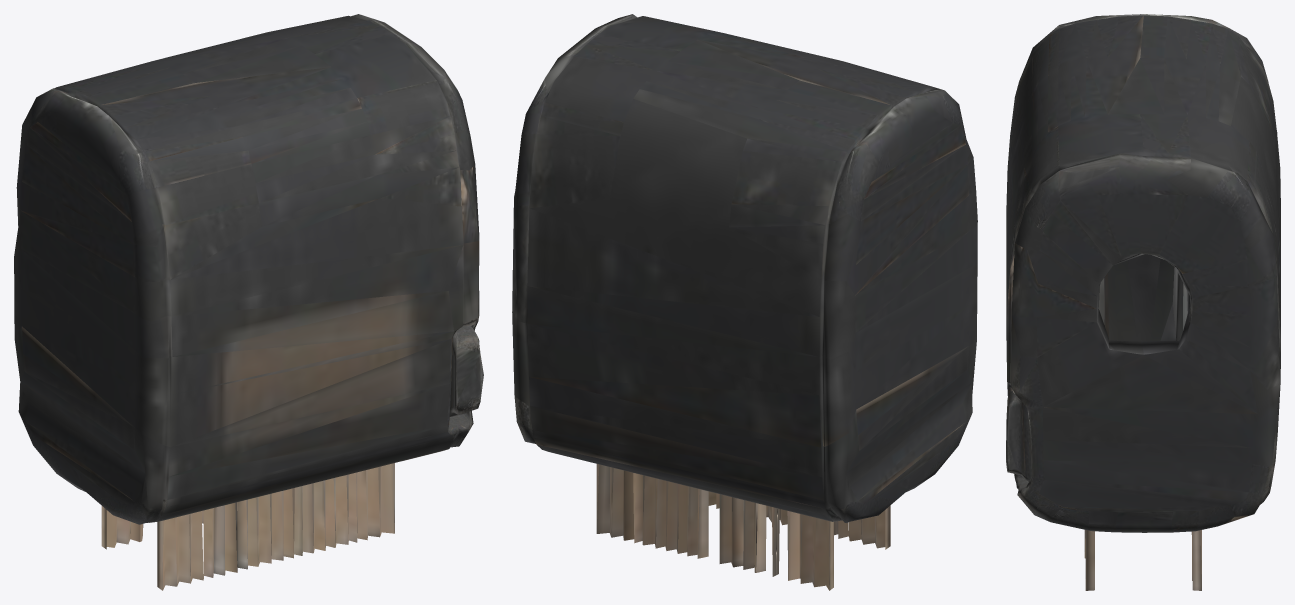
The model's file is p7-paper-towel-dispenser-t25.glb.
3 renders of one model, left to right at view 1: azimuth 30°, elevation 25°; view 2: azimuth 150°, elevation 25°; view 3: azimuth 270°, elevation 25°, orthographic. The views are drawn at different scales.
Parts seen in each view (by area): view 1: p7-paper-towel-dispenser-t25; view 2: p7-paper-towel-dispenser-t25; view 3: p7-paper-towel-dispenser-t25.
Boxes of the visible parts, x1=… form: p7-paper-towel-dispenser-t25: x1=14, y1=14, x2=483, y2=590; p7-paper-towel-dispenser-t25: x1=512, y1=14, x2=977, y2=590; p7-paper-towel-dispenser-t25: x1=1006, y1=14, x2=1280, y2=590.
Bounding box in the file's own units: 0.3 × 0.4 × 0.22.
Materials: 1 (1 with a texture image).
